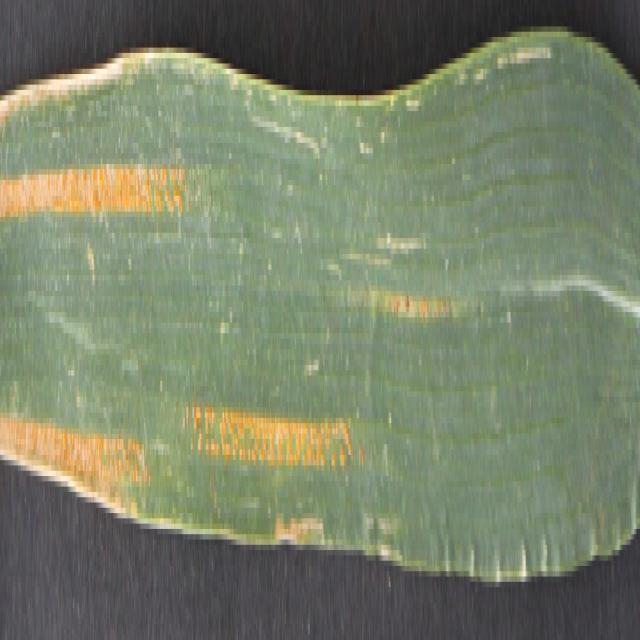leaf rust: (1, 106, 369, 555)
